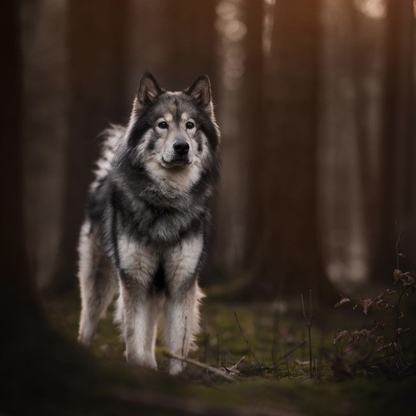husky: (64, 63, 227, 379)
